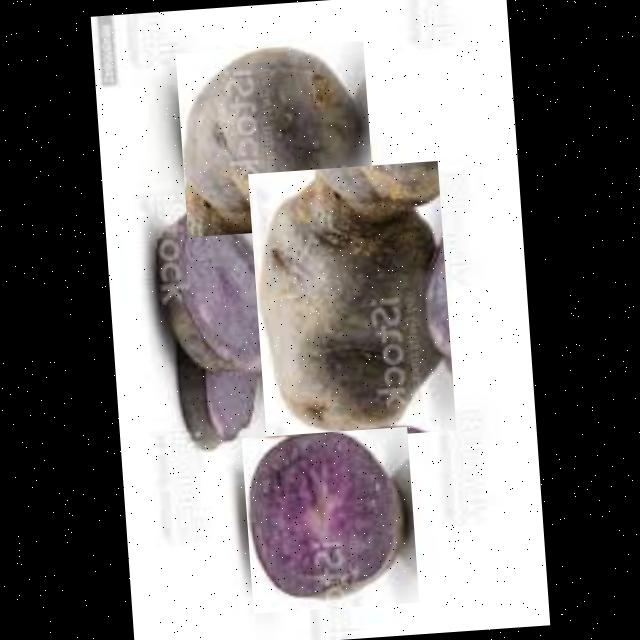Damaged potato: (248, 159, 456, 442), (175, 39, 375, 236)
Defected potato: (241, 426, 419, 612), (148, 202, 288, 384)
